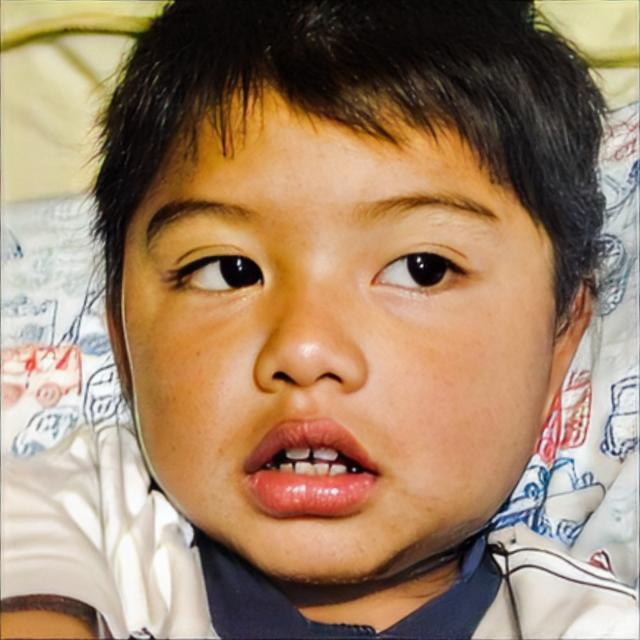surprise: (120, 64, 554, 586)
